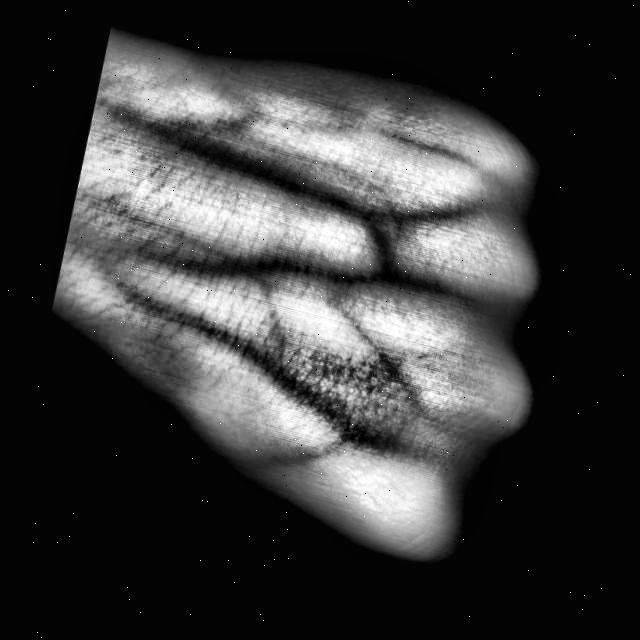Vein: (123, 273, 334, 416), (177, 126, 358, 222)
